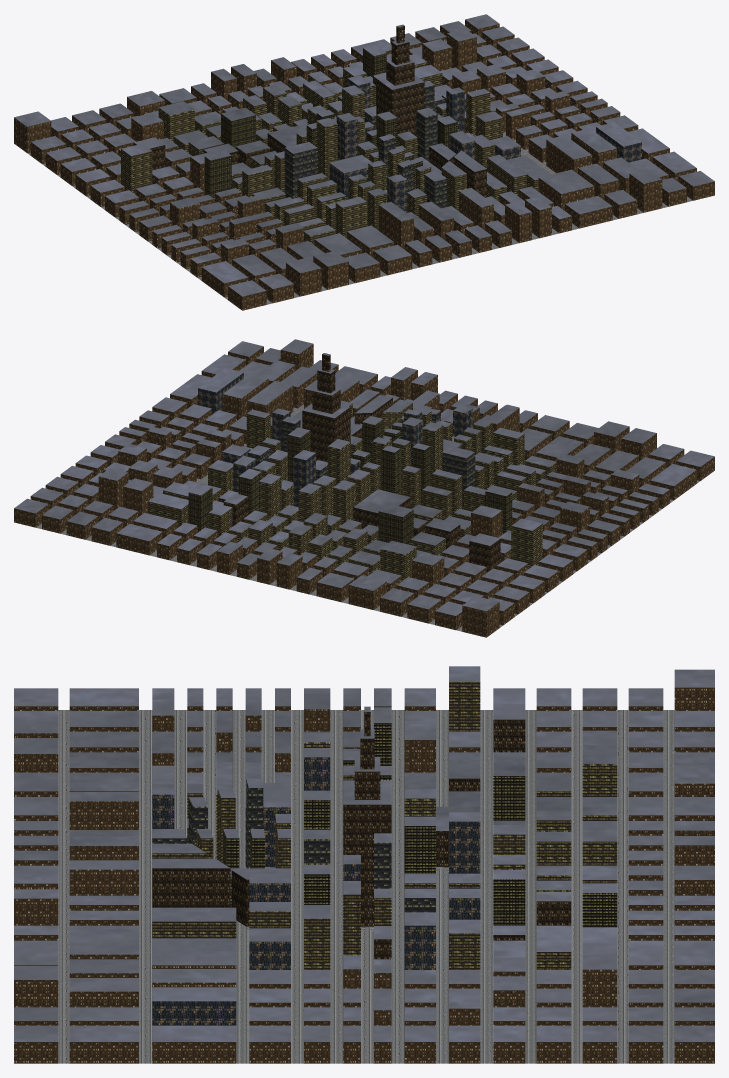
File: Night_City_V_0_1.fbx
3 views of the same model, one above another, from view 1: azimuth 30°, elevation 25°; view 2: azimuth 150°, elevation 25°; view 3: azimuth 270°, elevation 25° (orthographic). The views are drawn at different scales.
Parts seen in each view (by area): view 1: City; view 2: City; view 3: City.
Boxes of the visible parts, left/top/right/bottom form: City: left=14, top=14, right=714, bottom=310; City: left=14, top=339, right=714, bottom=637; City: left=14, top=666, right=714, bottom=1063.
Bounding box in the file's own units: 1364 × 369 × 1142.
